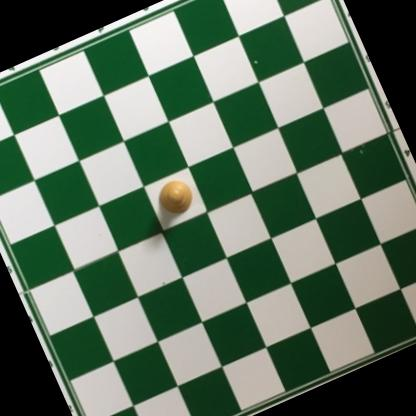white-pawn: (152, 174, 200, 223)
